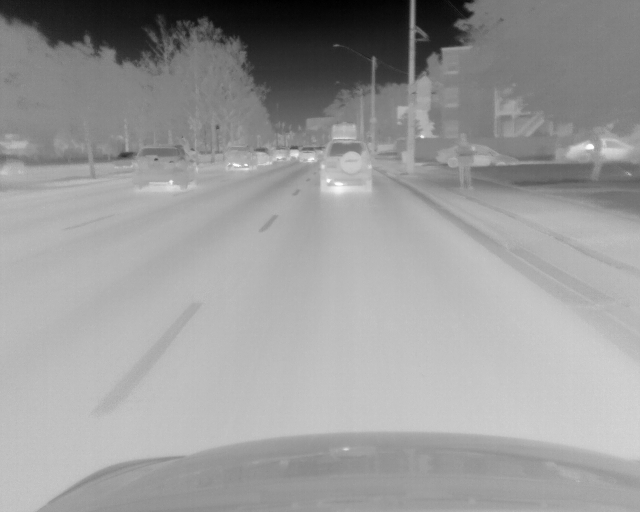car: (134, 144, 199, 189), (320, 139, 372, 194), (553, 137, 640, 168), (437, 143, 520, 169), (223, 144, 257, 172), (111, 149, 134, 171), (253, 148, 272, 167), (297, 147, 317, 165), (273, 146, 289, 164)
people: (454, 133, 476, 193), (588, 127, 605, 185)
